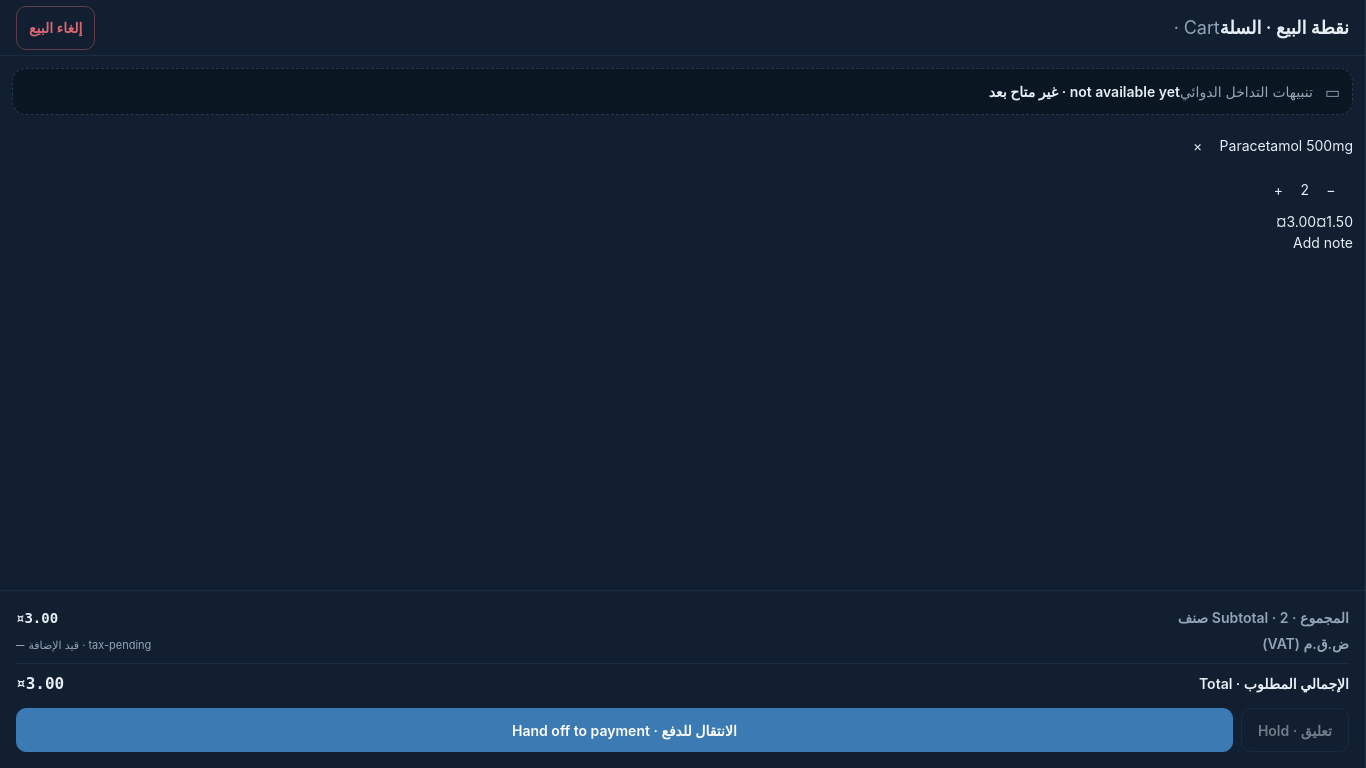
Test case: T052 — CartPane bridge: decrement line › decrements displayed quantity after update ok response
Click the button with test id "qty-decrement": (1331, 189) [1309, 167, 1353, 211]
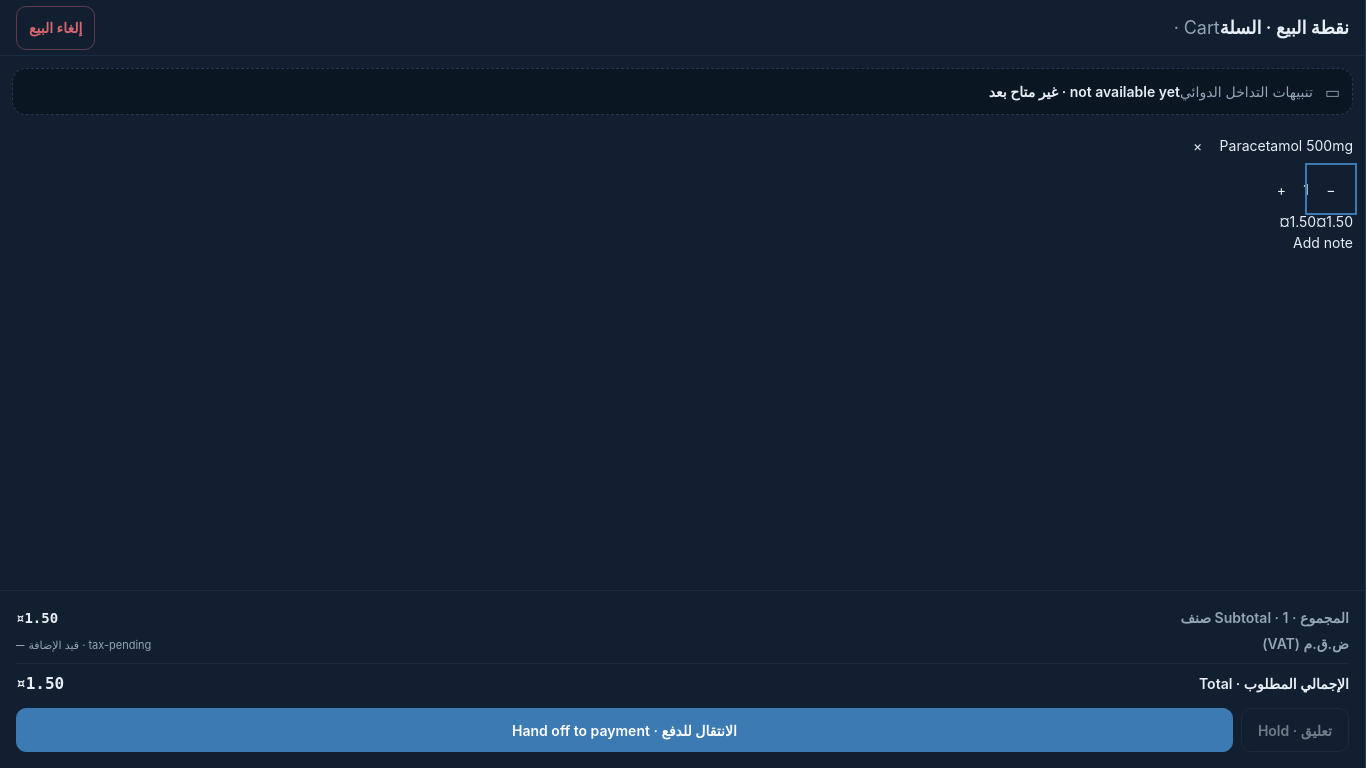
Expected: the text with test id "qty-display" reads "1", [1303, 180, 1309, 198]
